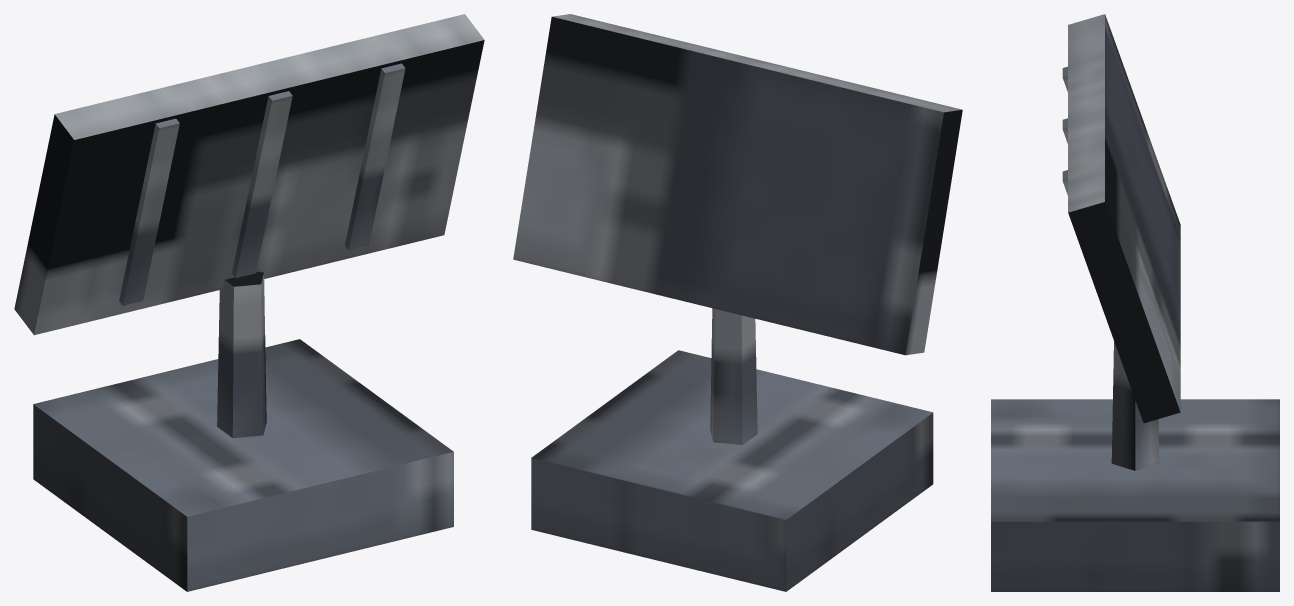
The model's file is ship_radar_array.obj.
3 renders of one model, left to right at view 1: azimuth 30°, elevation 25°; view 2: azimuth 150°, elevation 25°; view 3: azimuth 270°, elevation 25°, orthographic. The views are drawn at different scales.
Visible parts, largest first — view 1: panel, base, grid, post; view 2: panel, base, post; view 3: base, panel, post.
Part boxes in pixels (left/top/right/bottom): panel: left=14, top=14, right=484, bottom=335; base: left=33, top=339, right=453, bottom=591; grid: left=119, top=63, right=405, bottom=305; post: left=217, top=271, right=266, bottom=438; panel: left=513, top=14, right=962, bottom=355; base: left=531, top=350, right=933, bottom=591; post: left=710, top=308, right=757, bottom=444; base: left=991, top=399, right=1279, bottom=591; panel: left=1068, top=14, right=1180, bottom=423; post: left=1111, top=341, right=1159, bottom=470.
Bounding box in the file's own units: 0.8 × 0.84 × 0.52.
Materials: 4 (4 with a texture image).
